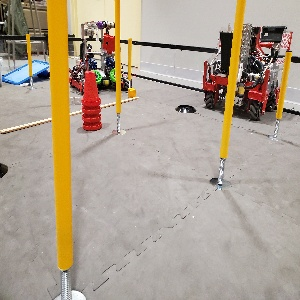Red_4: (80, 70, 102, 131)
